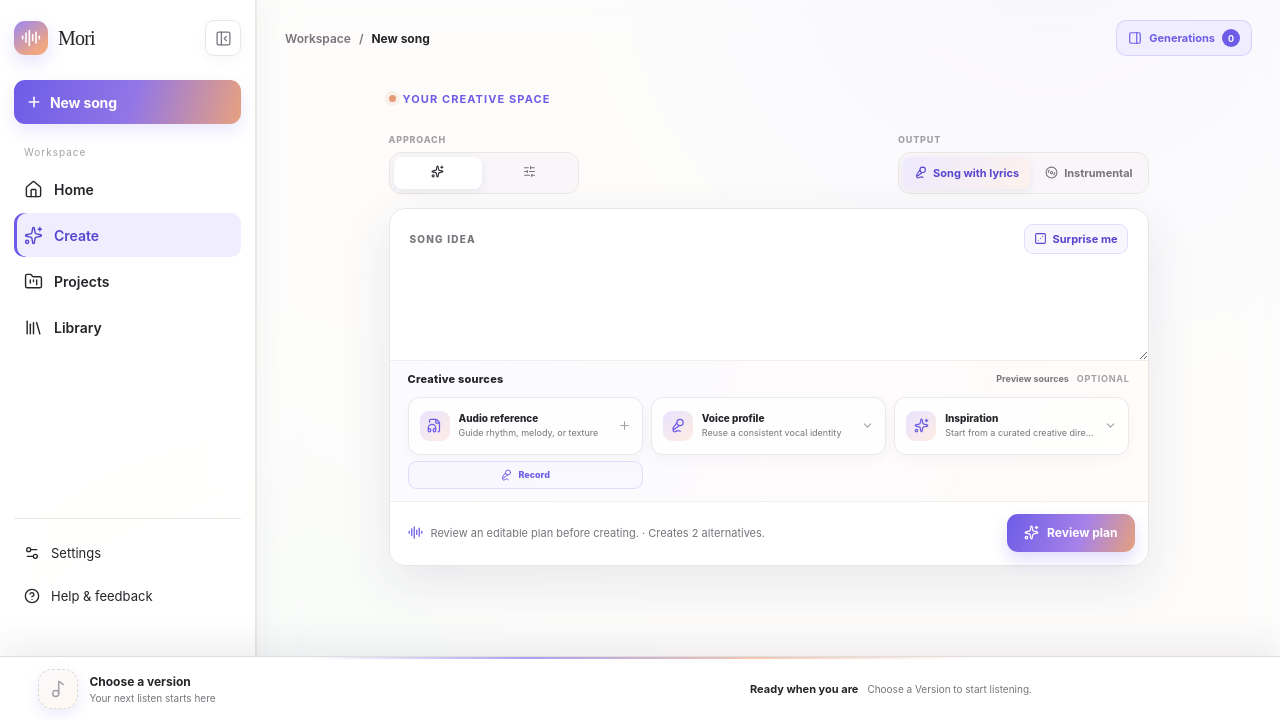
Test: Mori workspace › keeps the desktop Generation queue beside the editable Create canvas
Click the button with aria-label "Open generation queue": {"x": 1184, "y": 38} [1116, 20, 1252, 56]
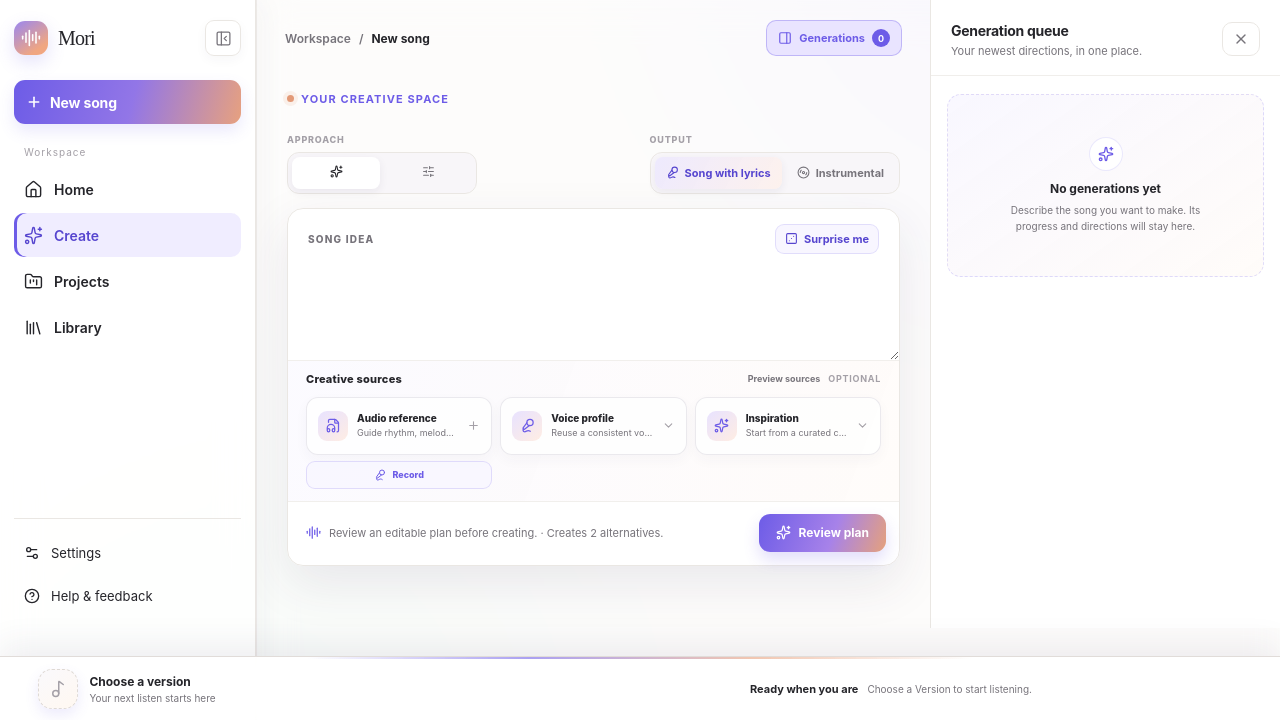
Expected: the text box named "Song idea" is enabled, [288, 254, 899, 360]
Expected: the element "Generation queue" is shown, [930, 0, 1279, 628]
